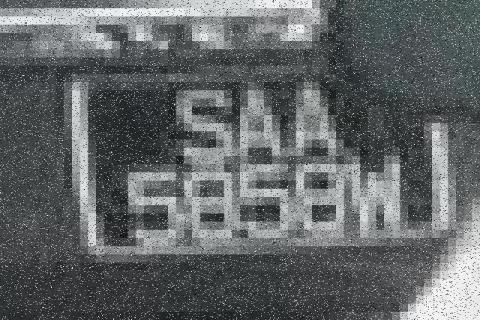LicensePlate: (64, 70, 460, 267)
